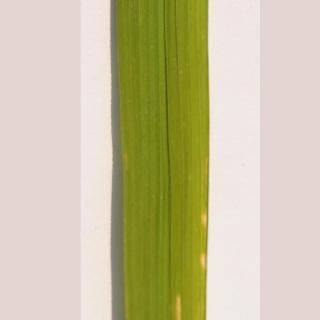Hawar-Daun: (187, 177, 215, 290), (167, 290, 188, 320)
